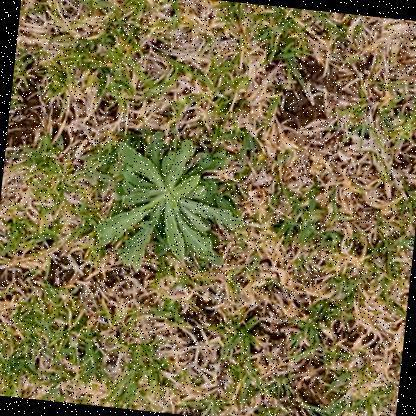Weeds: (90, 124, 252, 284)
